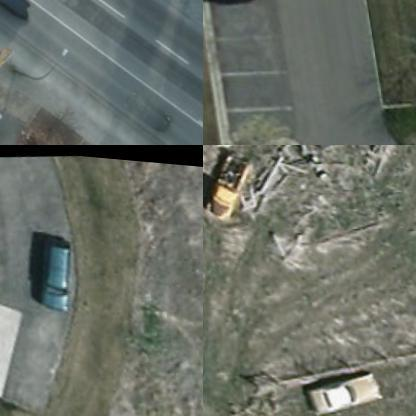car: (28, 226, 79, 312), (302, 365, 380, 415), (0, 0, 32, 25)
pickup: (203, 145, 258, 228)
